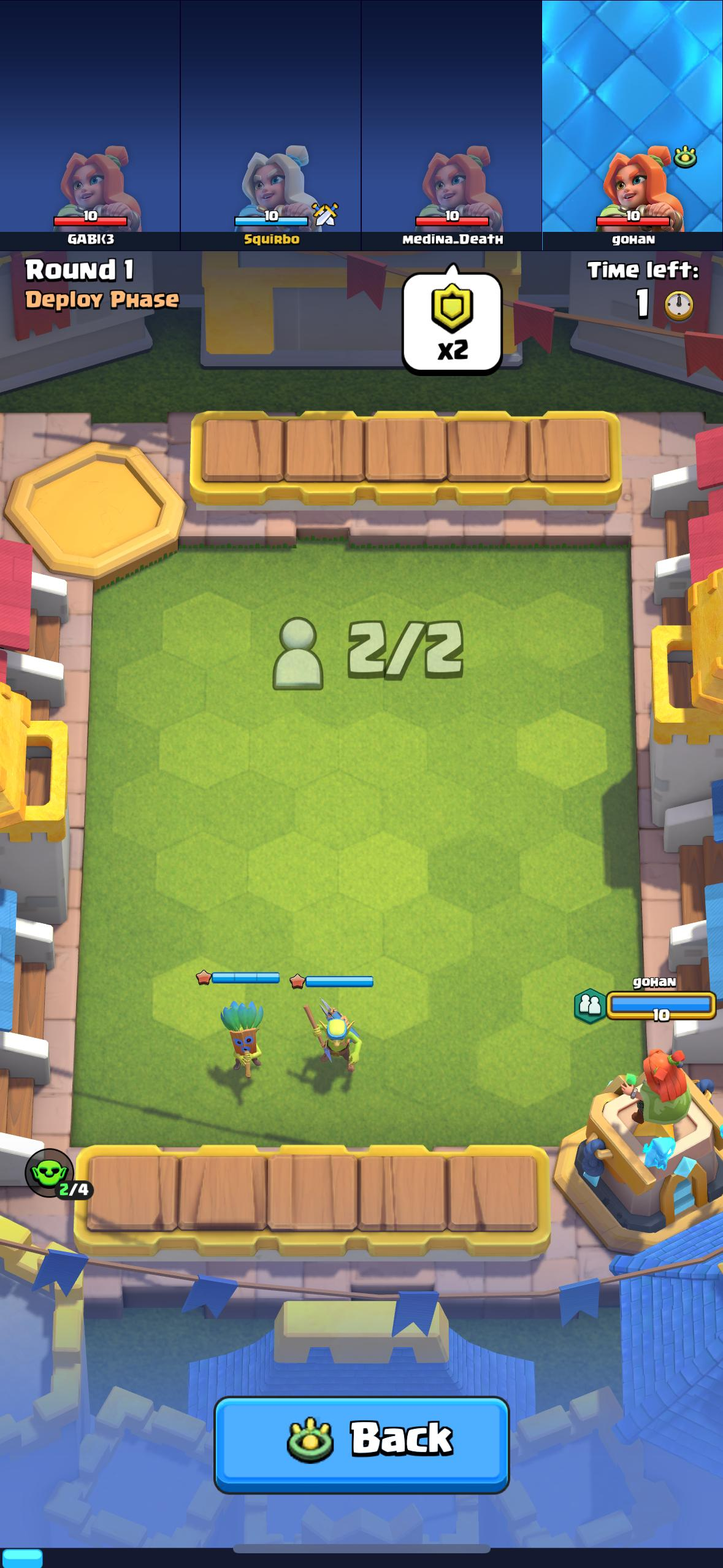dart: (218, 997, 269, 1077)
spear: (301, 997, 365, 1079)
